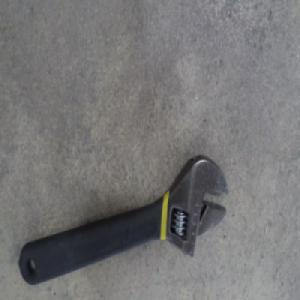AdjustableWrench: (17, 155, 231, 286)
